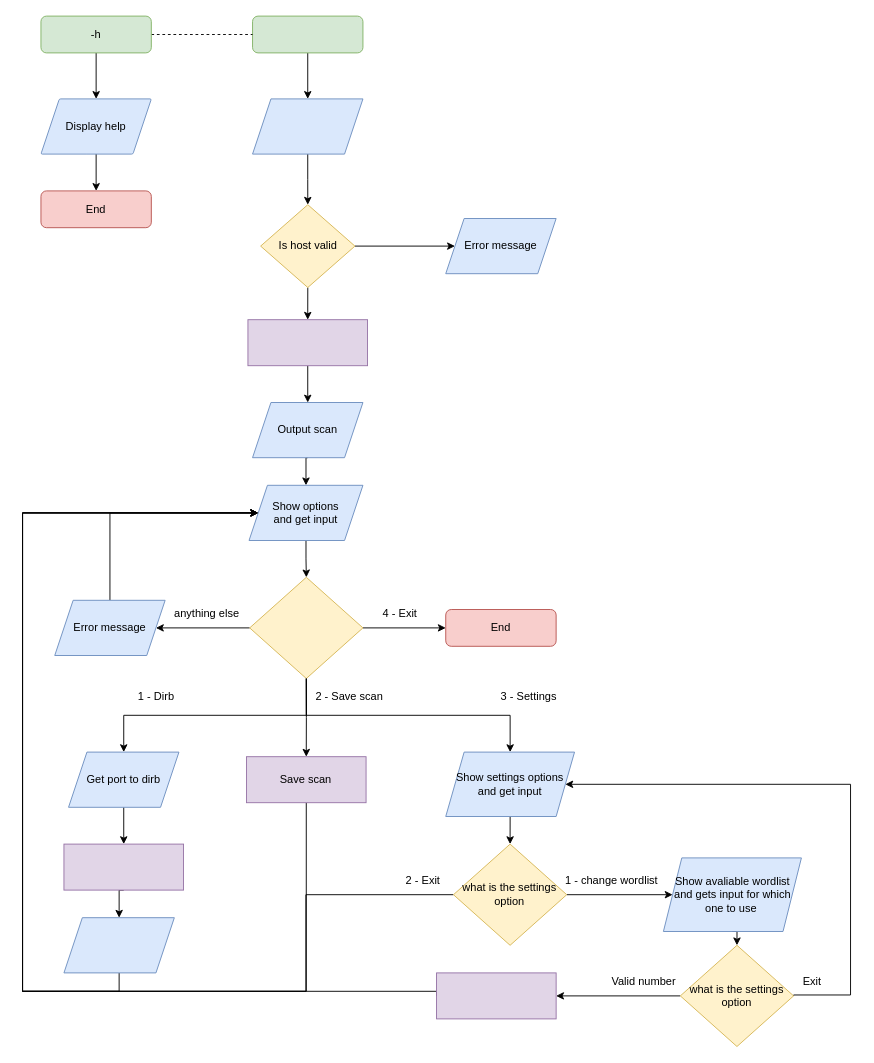
The diagram is 874 pixels wide and 1063 high, and some of its shapes have lost their labels. The shapes that lost their labels are listed below. From the top down, each one's centre as x and y in pixels, then its label:
At (x=307, y=34): "-t <host>".
At (x=307, y=126): "Get host".
At (x=307, y=342): "Scan host".
At (x=306, y=627): "what is the option".
At (x=123, y=866): "Scan directories".
At (x=118, y=945): "Output results".
At (x=496, y=995): "Set wordlist".
